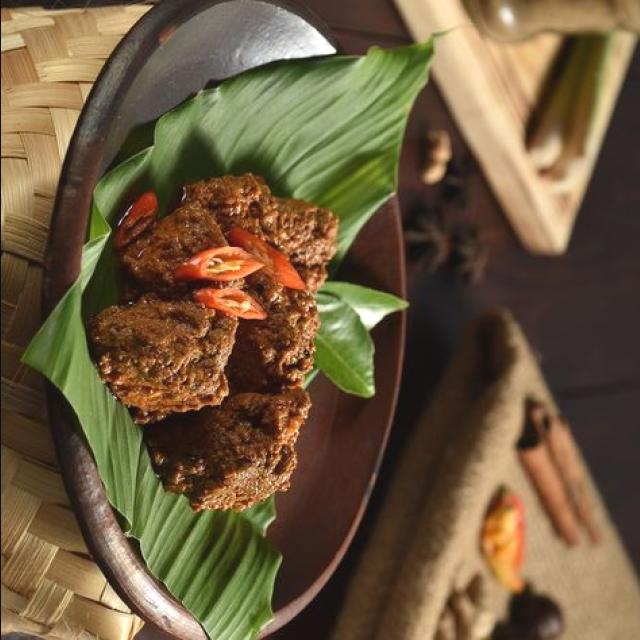rendang: (84, 169, 338, 512)
